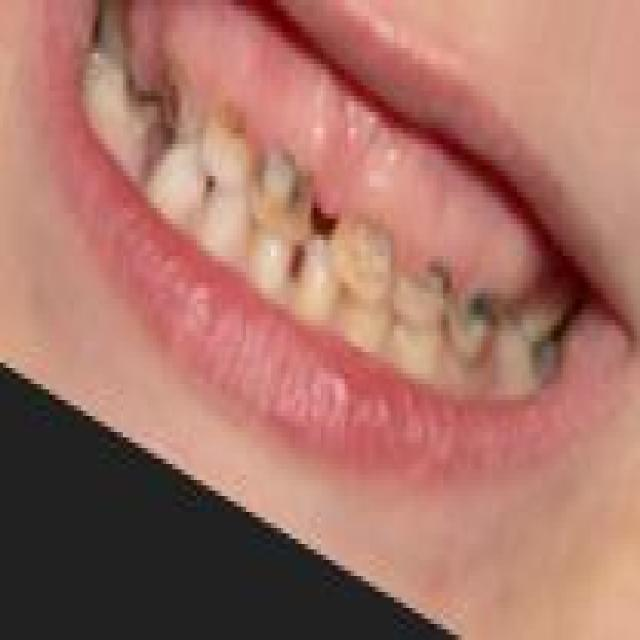caries: (246, 138, 316, 248), (328, 207, 392, 301), (394, 247, 458, 330), (452, 281, 508, 368), (201, 94, 255, 174), (157, 58, 196, 138)
